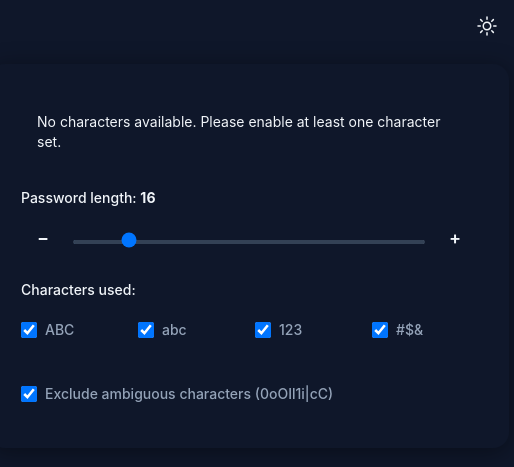
Test: AC-10: Pool-error state when effective character pool is empty › recovers from pool-error when buildPool starts returning a valid pool
Expected: the message "No characters available. Please enable at least one character set." is shown, [37, 113, 440, 150]
Note: Trigger a config change so the generation effect re-runs with the real buildPool
Click the checkbox named "Uppercase letters": point(29, 330) [21, 322, 37, 338]
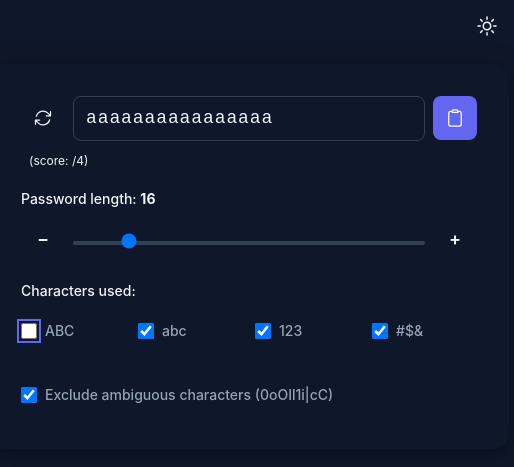
Expected: the field named "password" is not empty, [73, 96, 425, 140]
